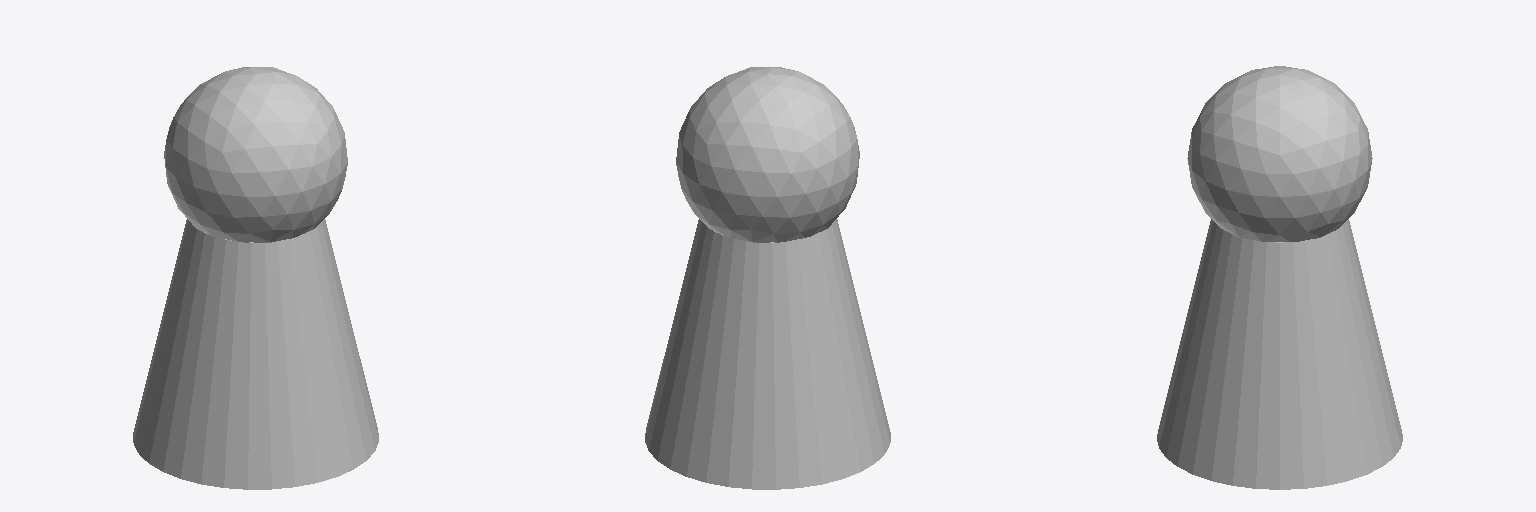
Rendered from pionek.obj.
3 renders of one model, left to right at view 1: azimuth 30°, elevation 25°; view 2: azimuth 150°, elevation 25°; view 3: azimuth 270°, elevation 25°, orthographic.
Visible parts, largest first — view 1: Cylinder; view 2: Cylinder; view 3: Cylinder.
Boxes of the visible parts, x1=… form: Cylinder: x1=133, y1=67, x2=378, y2=489; Cylinder: x1=645, y1=67, x2=890, y2=489; Cylinder: x1=1157, y1=66, x2=1402, y2=489.
Size of the model in its own units: 1.6 by 2.6 by 1.6.